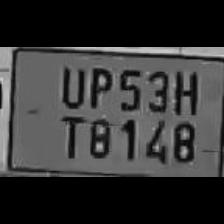1: (114, 113, 140, 162)
3: (143, 66, 169, 112)
4: (140, 113, 168, 164)
5: (113, 63, 142, 111)
8: (84, 112, 112, 160), (168, 117, 196, 165)
H: (169, 66, 200, 116)
P: (84, 63, 112, 109)
T: (54, 111, 86, 159)
U: (54, 61, 86, 107)
